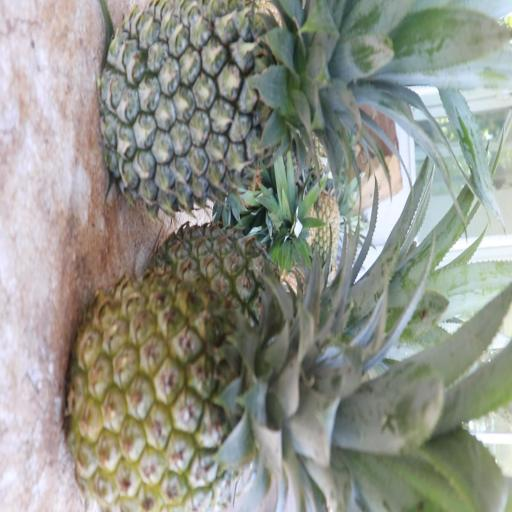------------------------------: (62, 266, 394, 512)
